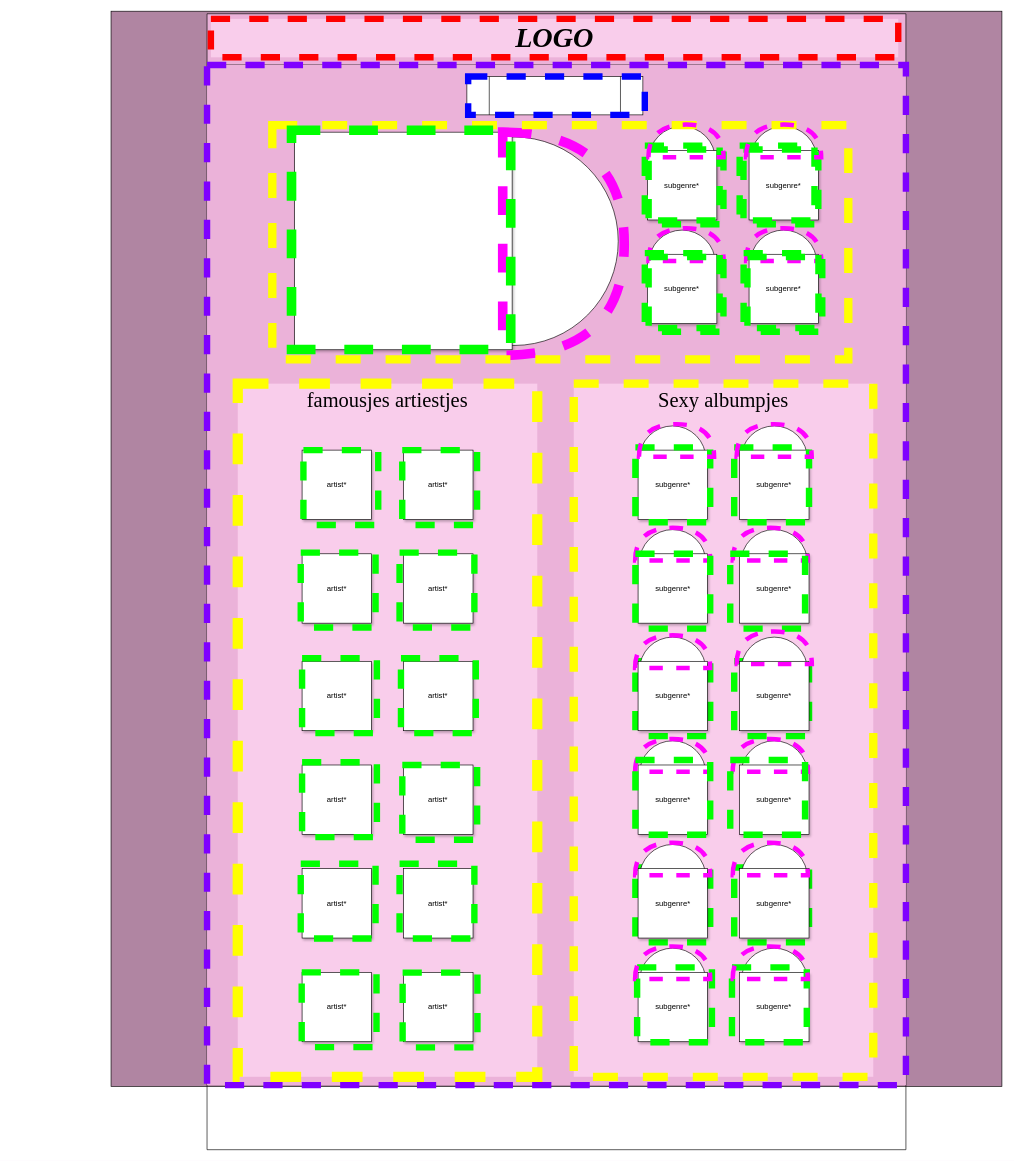
Image size: 1014x1161. Some labels were removed from this diagram. Each missing label, with the centre of its shape:
* Genre *: point (403, 241)
*Genre*: point (554, 95)
